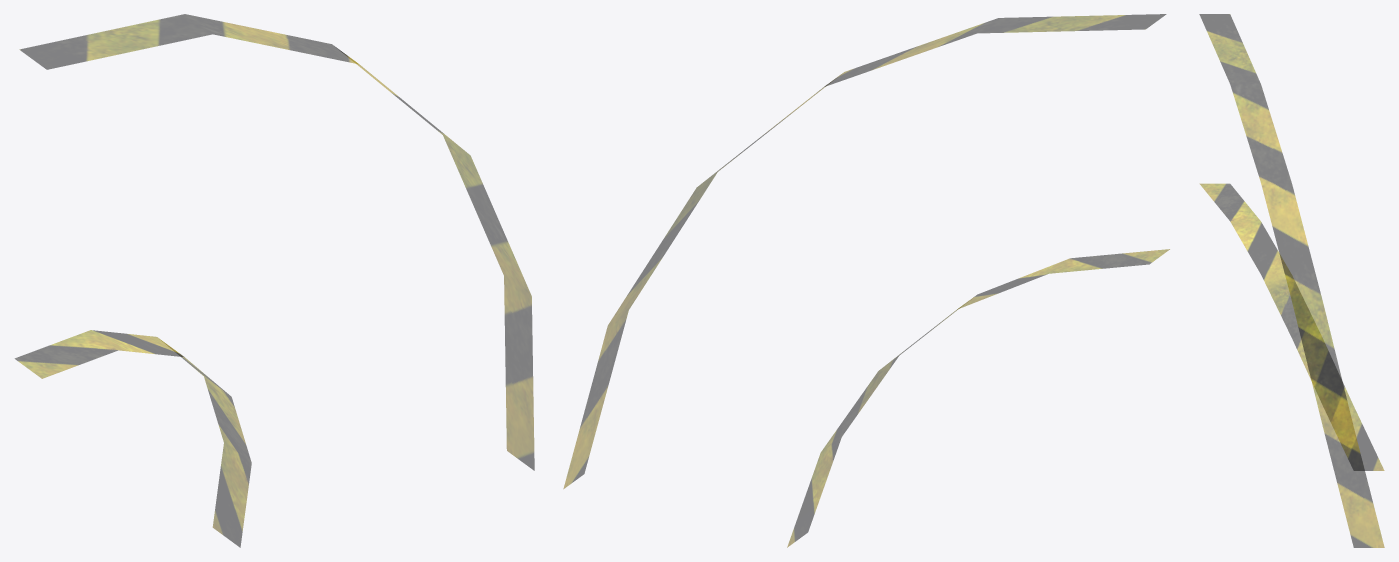
Rendered from machine2_stripes.fbx.
The picture shows the model from 3 angles, left to right: view 1: azimuth 30°, elevation 25°; view 2: azimuth 150°, elevation 25°; view 3: azimuth 270°, elevation 25°; orthographic projection. The views are drawn at different scales.
Visible parts, largest first — view 1: Cube_194; view 2: Cube_194; view 3: Cube_194.
Part boxes in pixels (x1,y1,x2,y2): Cube_194: (15,14,534,547); Cube_194: (563,14,1169,547); Cube_194: (1199,14,1384,547).
Bounding box in the file's own units: 13.1 × 13.1 × 6.
Materials: 1 (1 with a texture image).
